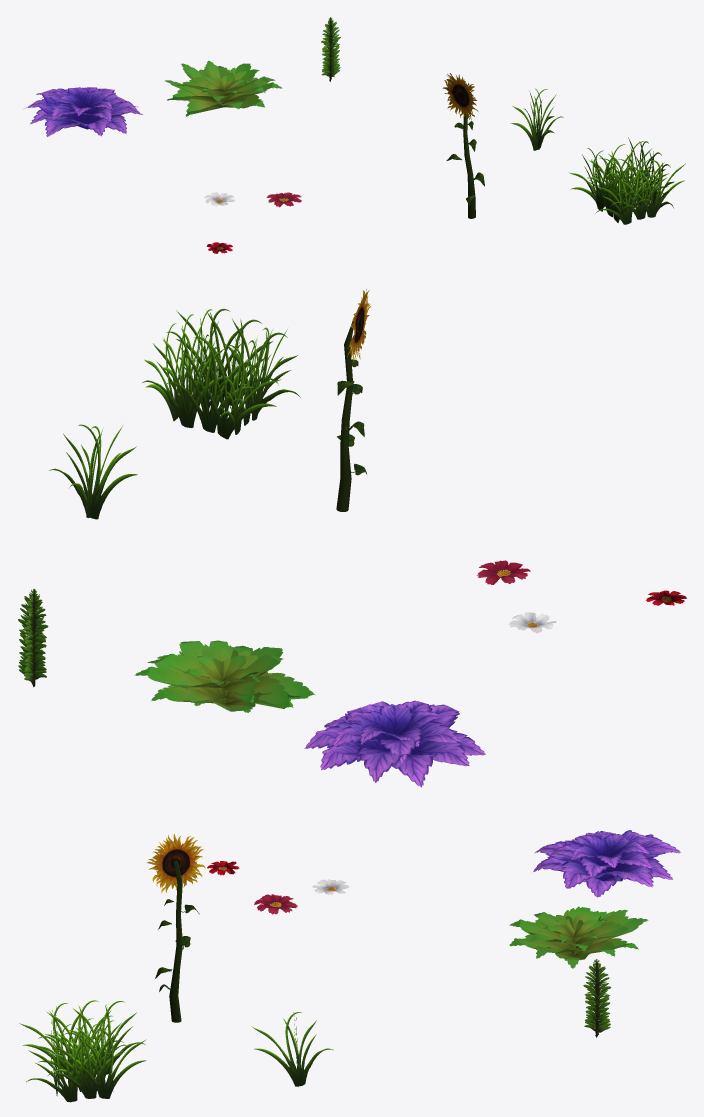
File: plantss all2.fbx
3 renders of one model, top to bottom at view 1: azimuth 30°, elevation 25°; view 2: azimuth 150°, elevation 25°; view 3: azimuth 270°, elevation 25°, orthographic. The views are drawn at different scales.
Parts seen in each view (by area): view 1: grass23, moovegrass5, green_grass5, leavsunflower7, grass24, fruitsgrass3; view 2: grass23, moovegrass5, green_grass5, leavsunflower7, grass24, fruitsgrass3, pink_flower; view 3: moovegrass5, grass23, green_grass5, leavsunflower7, fruitsgrass3, grass24, pink_flower.
Part boxes in pixels (bbox=[...]): grass23: bbox=[568, 137, 685, 224]; moovegrass5: bbox=[24, 87, 142, 136]; green_grass5: bbox=[164, 60, 282, 116]; leavsunflower7: bbox=[442, 73, 484, 218]; grass24: bbox=[510, 88, 563, 150]; fruitsgrass3: bbox=[321, 17, 340, 81]; grass23: bbox=[142, 308, 300, 439]; moovegrass5: bbox=[304, 700, 485, 787]; green_grass5: bbox=[134, 640, 315, 712]; leavsunflower7: bbox=[336, 288, 371, 511]; grass24: bbox=[49, 424, 137, 519]; fruitsgrass3: bbox=[18, 588, 48, 687]; pink_flower: bbox=[477, 560, 530, 584]; moovegrass5: bbox=[533, 830, 680, 897]; grass23: bbox=[19, 1000, 146, 1102]; green_grass5: bbox=[509, 906, 648, 968]; leavsunflower7: bbox=[147, 834, 205, 1022]; fruitsgrass3: bbox=[583, 959, 611, 1037]; grass24: bbox=[251, 1012, 333, 1086]; pink_flower: bbox=[254, 894, 297, 914].
Size of the model in its own units: 1856 by 634 by 2072.
1 material, 1 textured.
